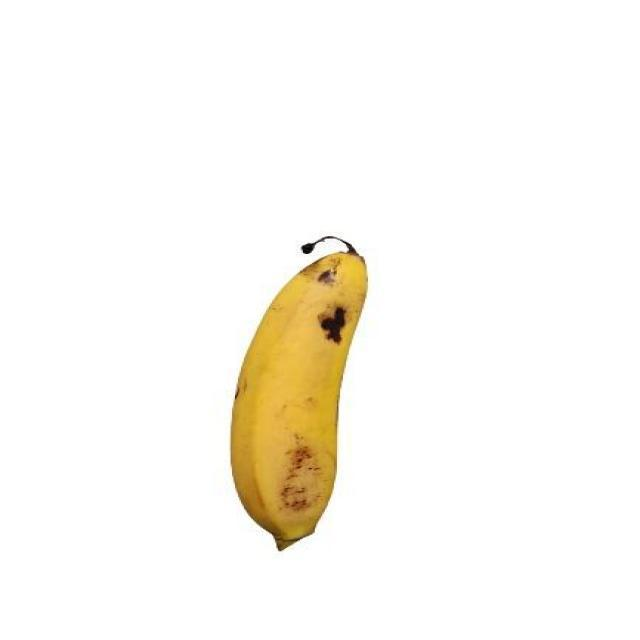Banana: (222, 226, 380, 553)
